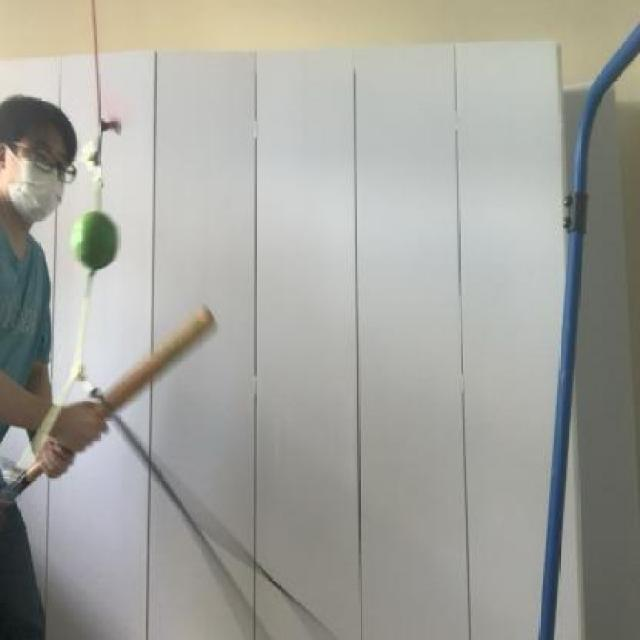baseball: (66, 208, 126, 277)
